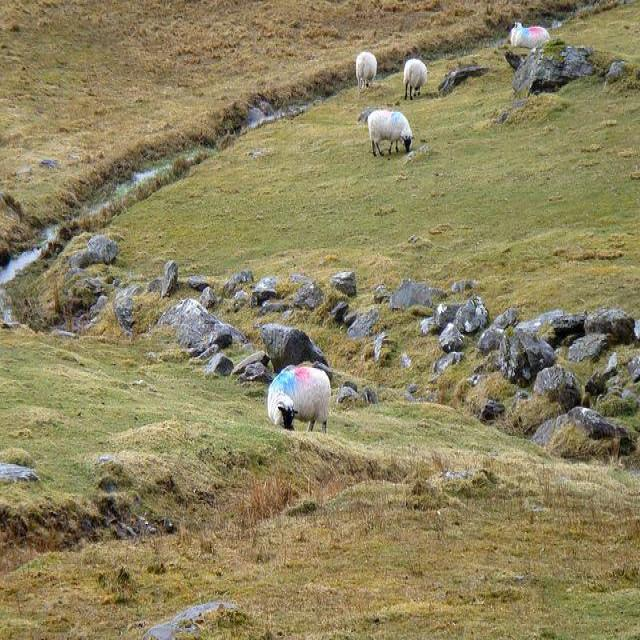Sheep: (265, 365, 331, 439), (368, 109, 414, 156)
